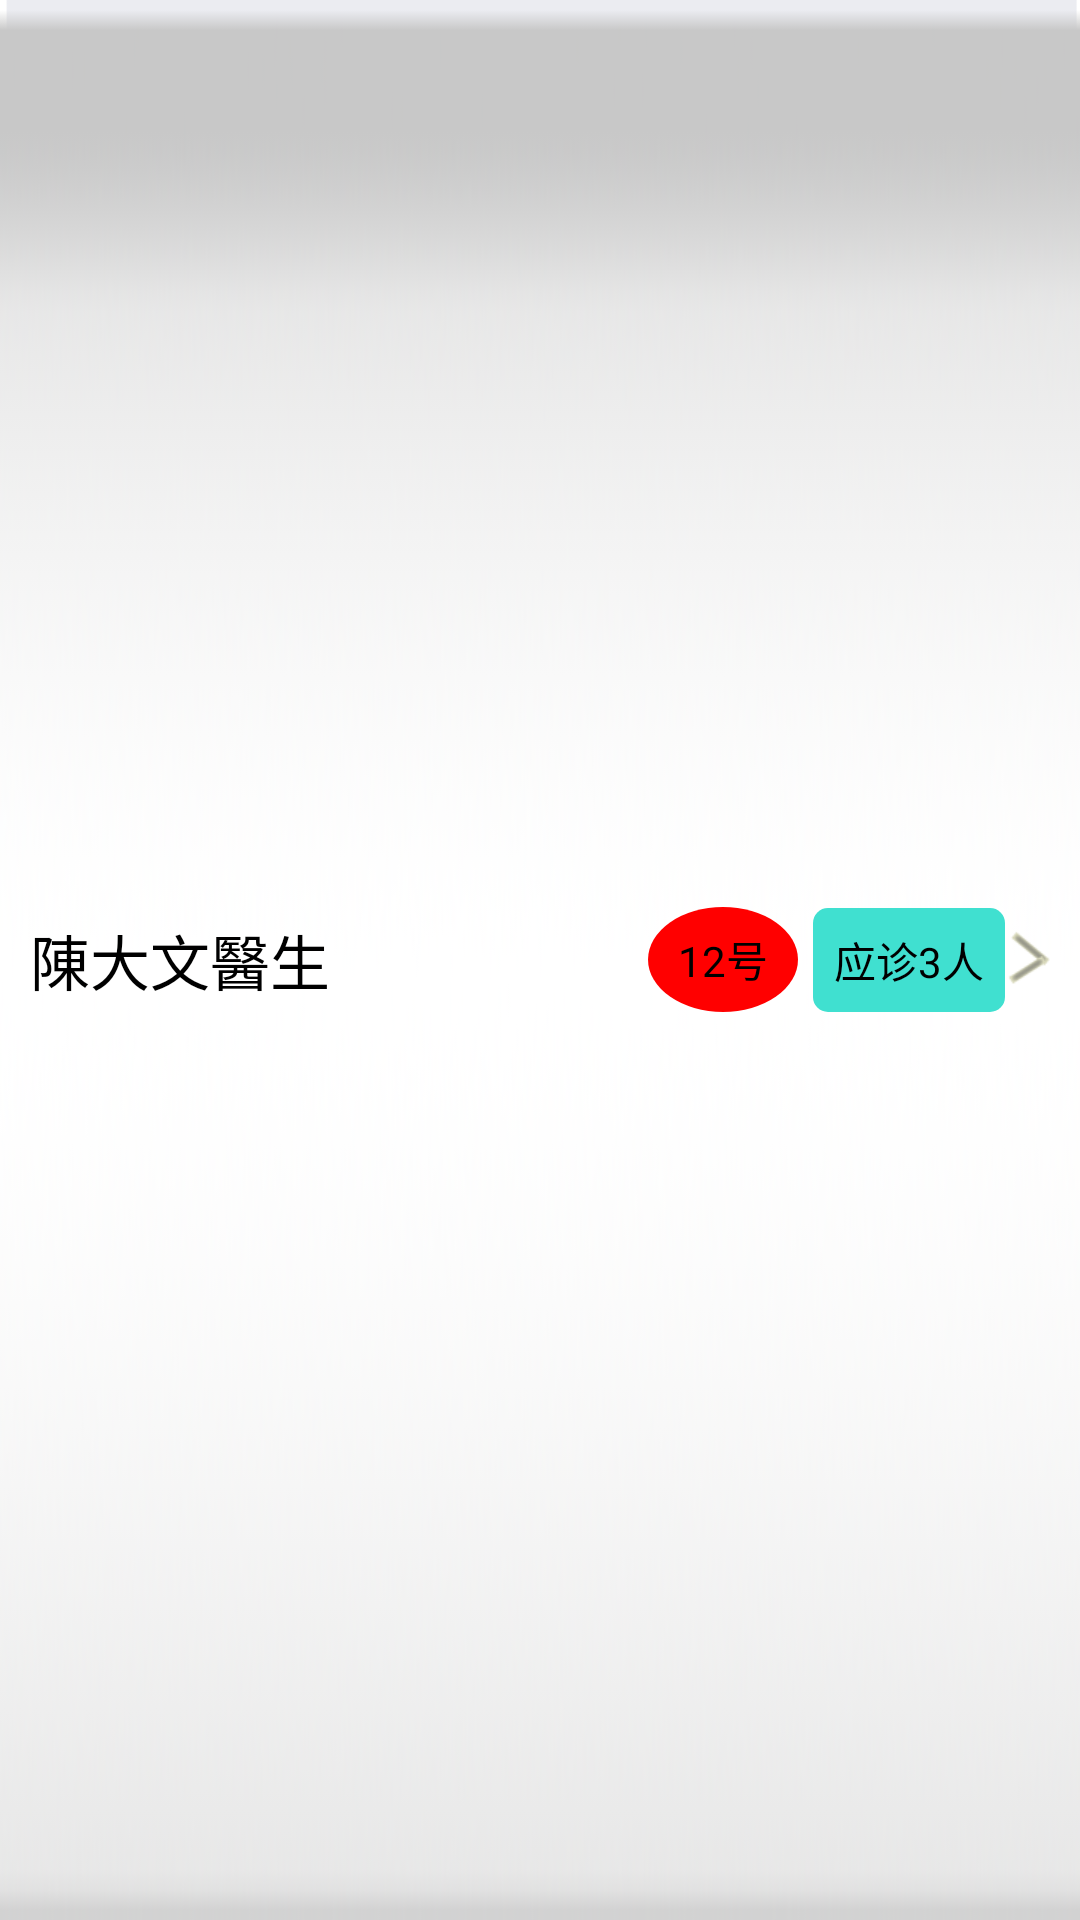

Icon click points for this 1080px x 1920px phone screenshot, format (x,y):
title right: (1029,957)
